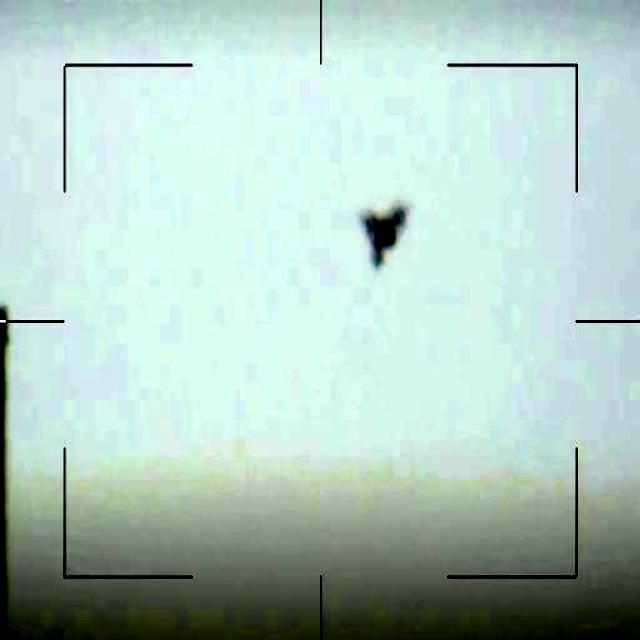bird: (355, 202, 410, 272)
